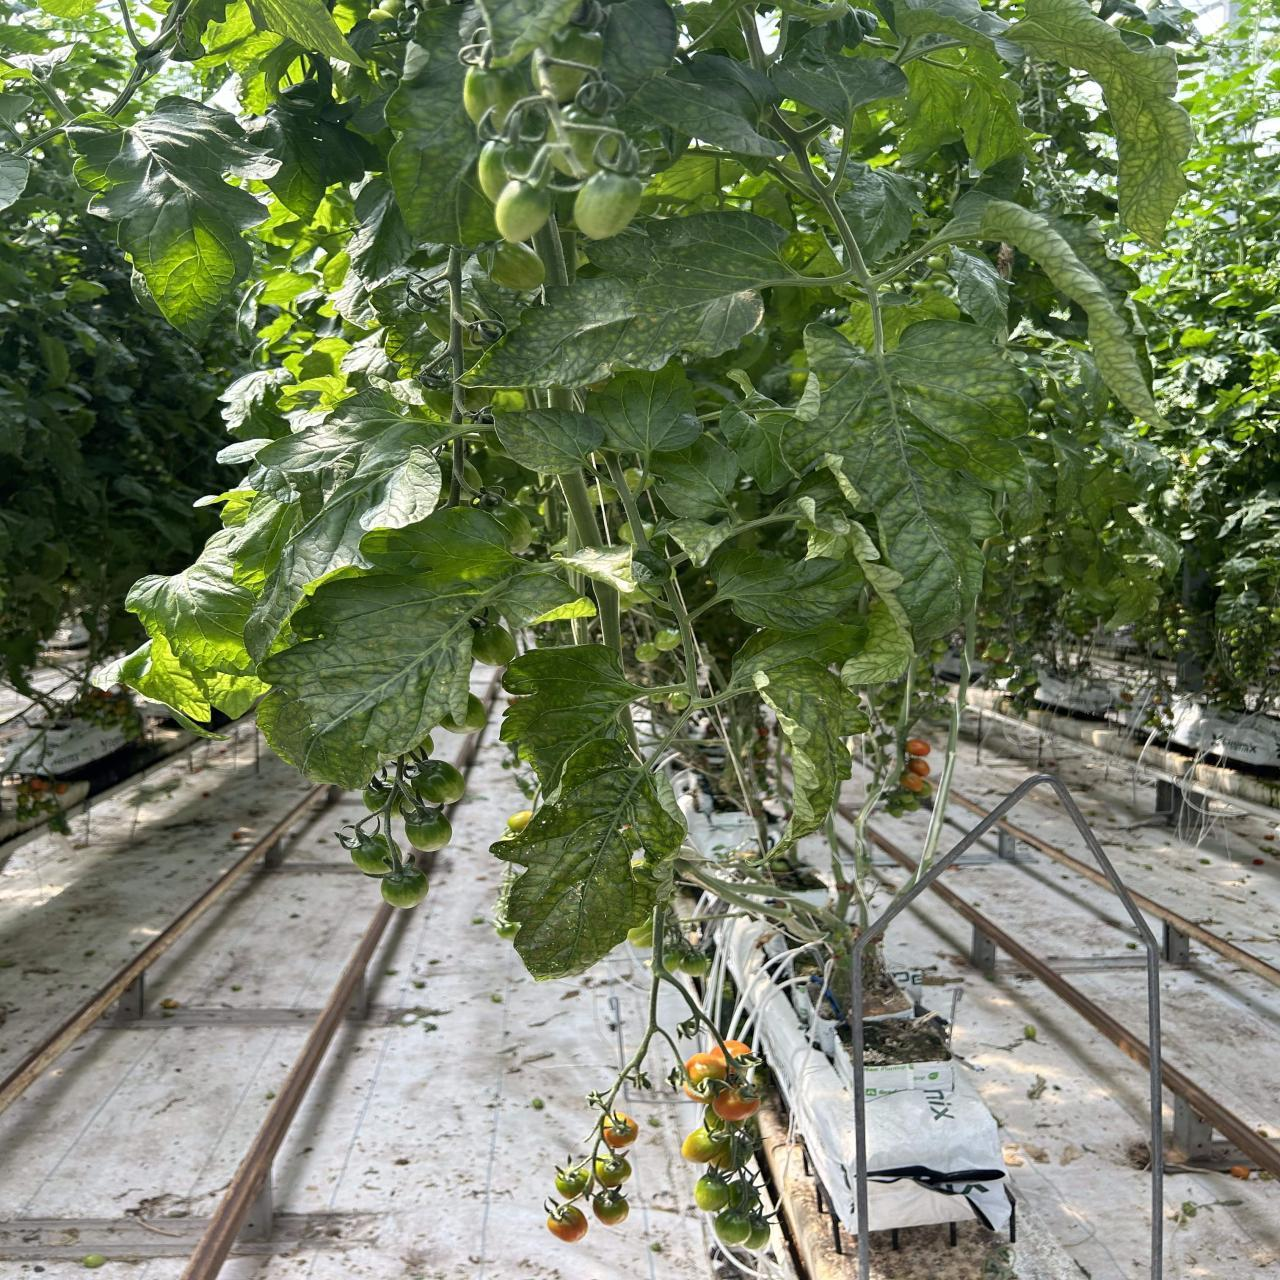Hoja: (77, 97, 279, 328), (387, 12, 497, 247), (501, 645, 644, 795), (712, 550, 863, 631), (587, 365, 701, 464), (652, 434, 740, 519), (495, 408, 605, 475)
Hoja rugoso: (259, 506, 578, 788), (785, 320, 1028, 646), (467, 211, 803, 388), (491, 734, 685, 979), (1006, 0, 1193, 247), (981, 199, 1169, 430), (761, 660, 867, 839)
Pedunculo: (771, 109, 919, 502), (559, 470, 602, 551), (533, 215, 570, 300), (590, 578, 621, 651)
Tomate: (573, 171, 644, 239), (463, 67, 529, 122), (495, 179, 550, 241), (477, 139, 508, 203)
